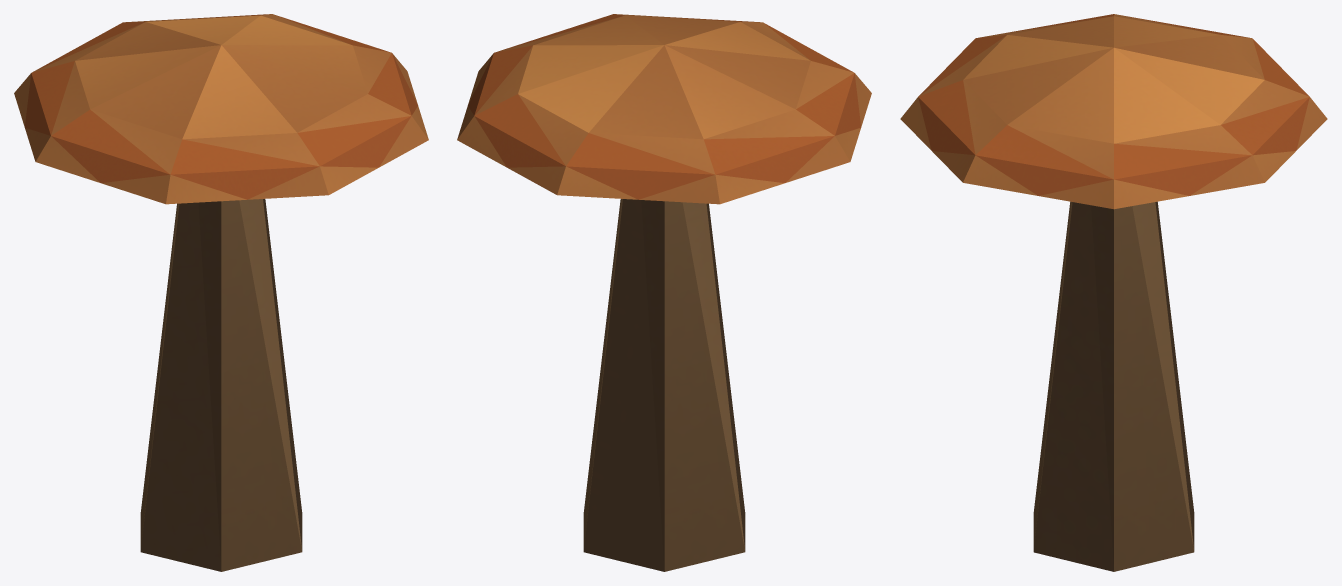
The model's file is Mushroom_Single_1.fbx.
The picture shows the model from 3 angles, left to right: view 1: azimuth 30°, elevation 25°; view 2: azimuth 150°, elevation 25°; view 3: azimuth 270°, elevation 25°; orthographic projection.
Visible parts, largest first — view 1: polySurface705; view 2: polySurface705; view 3: polySurface705.
Part boxes in pixels (x1,y1,x2,y2): polySurface705: [14, 14, 428, 571]; polySurface705: [457, 14, 871, 571]; polySurface705: [900, 14, 1327, 571].
Bounding box in the file's own units: 87.28 × 109 × 87.28.
1 material, 1 textured.
